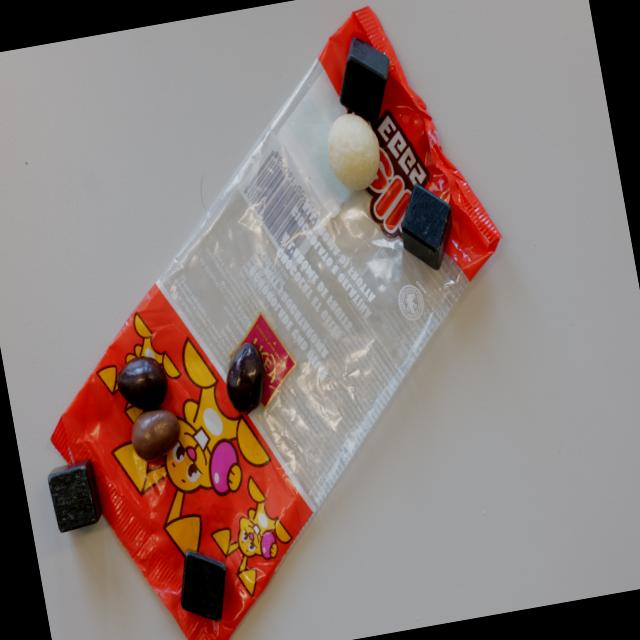Comtesse: (322, 109, 386, 192)
Jelly_Black: (220, 339, 272, 416), (114, 352, 172, 412)
Jelly_Milk: (128, 404, 186, 466)
